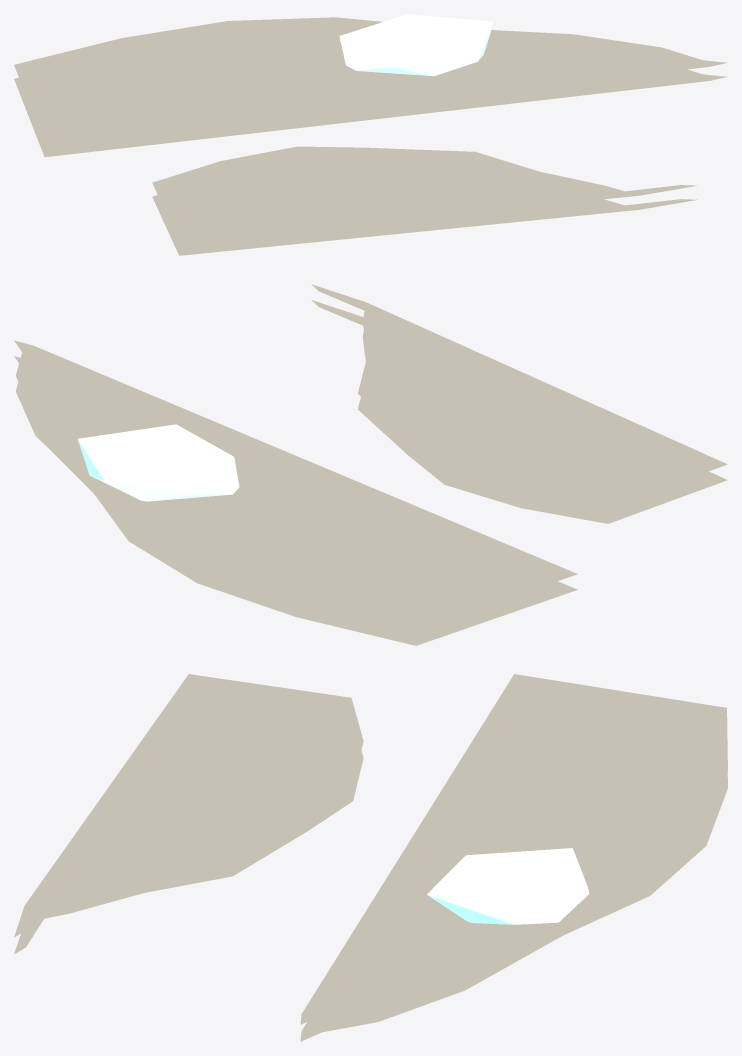
The model's file is moth_wing.glb.
The picture shows the model from 3 angles, top to bottom: view 1: azimuth 30°, elevation 25°; view 2: azimuth 150°, elevation 25°; view 3: azimuth 270°, elevation 25°; orthographic projection. The views are drawn at different scales.
Visible parts, largest first — view 1: model; view 2: model; view 3: model.
Part boxes in pixels (x1,y1,x2,y2): model: (14,14,727,255); model: (14,284,727,645); model: (14,674,727,1041).
Bounding box in the file's own units: 0.0664 × 0.00337 × 0.057.
